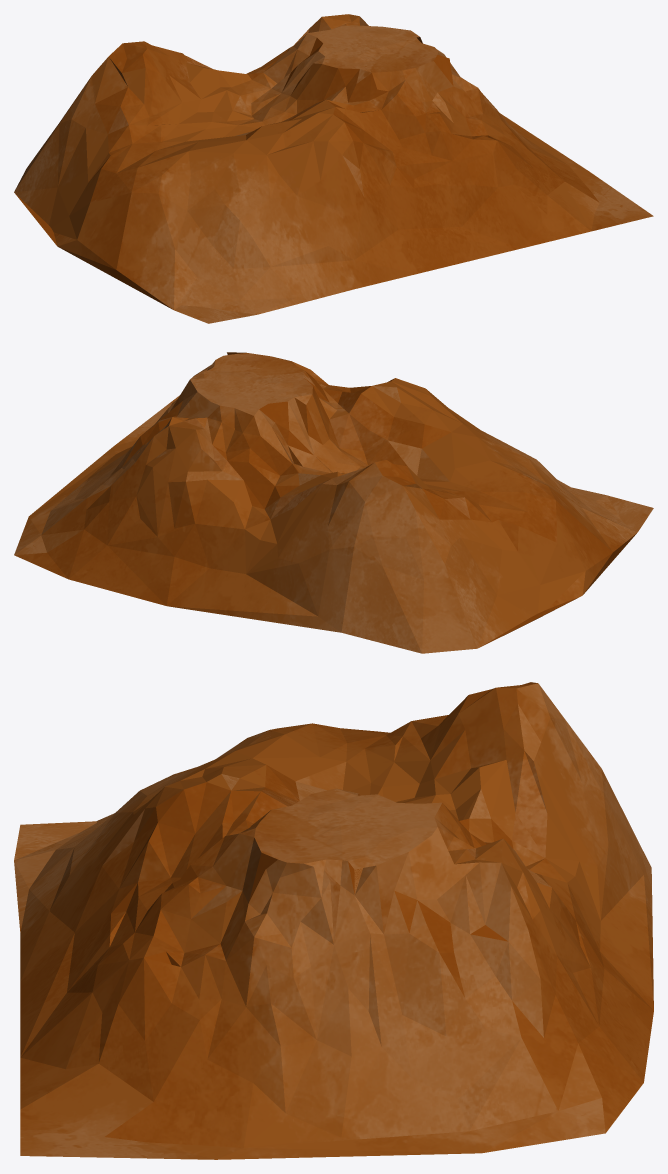
The model's file is Montanha.fbx.
3 views of the same model, one above another, from view 1: azimuth 30°, elevation 25°; view 2: azimuth 150°, elevation 25°; view 3: azimuth 270°, elevation 25° (orthographic). The views are drawn at different scales.
Visible parts, largest first — view 1: Floresta.001; view 2: Floresta.001; view 3: Floresta.001.
Part boxes in pixels (bbox=[...]): Floresta.001: bbox=[14, 14, 653, 323]; Floresta.001: bbox=[14, 352, 653, 653]; Floresta.001: bbox=[14, 682, 653, 1159].
Bounding box in the file's own units: 74806 × 20838 × 56100.
